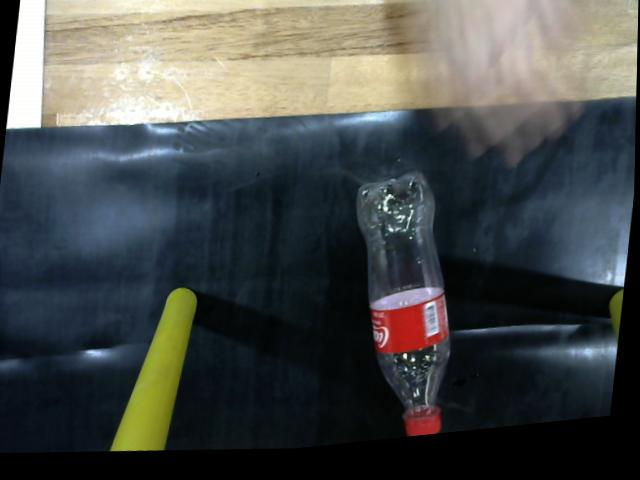bottle: (352, 178, 458, 447)
